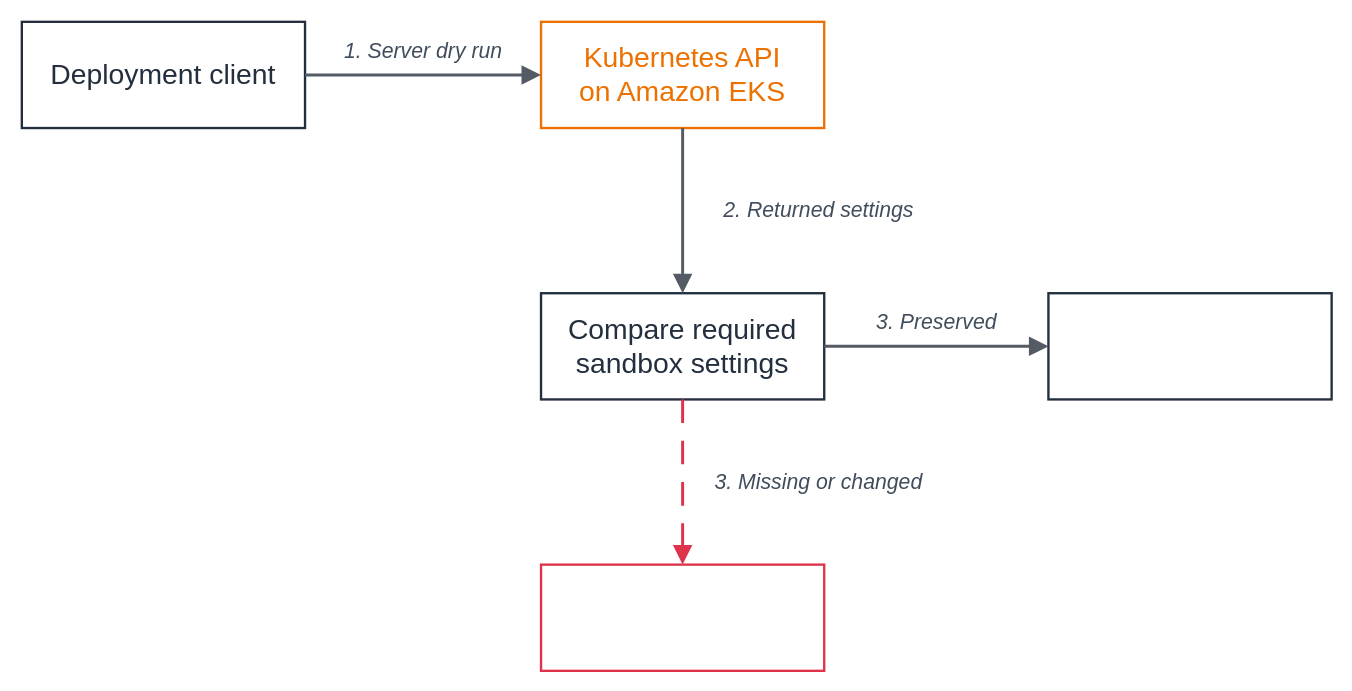
This 1352x691 diagram has some shape labels left out. Here are the shapes that lost their labels. From the top down, the centre of each, then its label:
At [1189,345]: "Create Job; check actual Pods".
At [682,617]: "Configuration error; no Job created".
